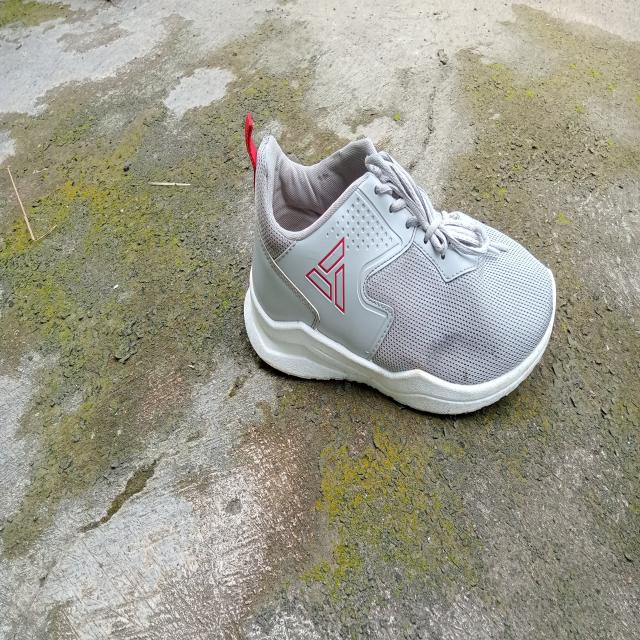shoes: (243, 113, 556, 416)
